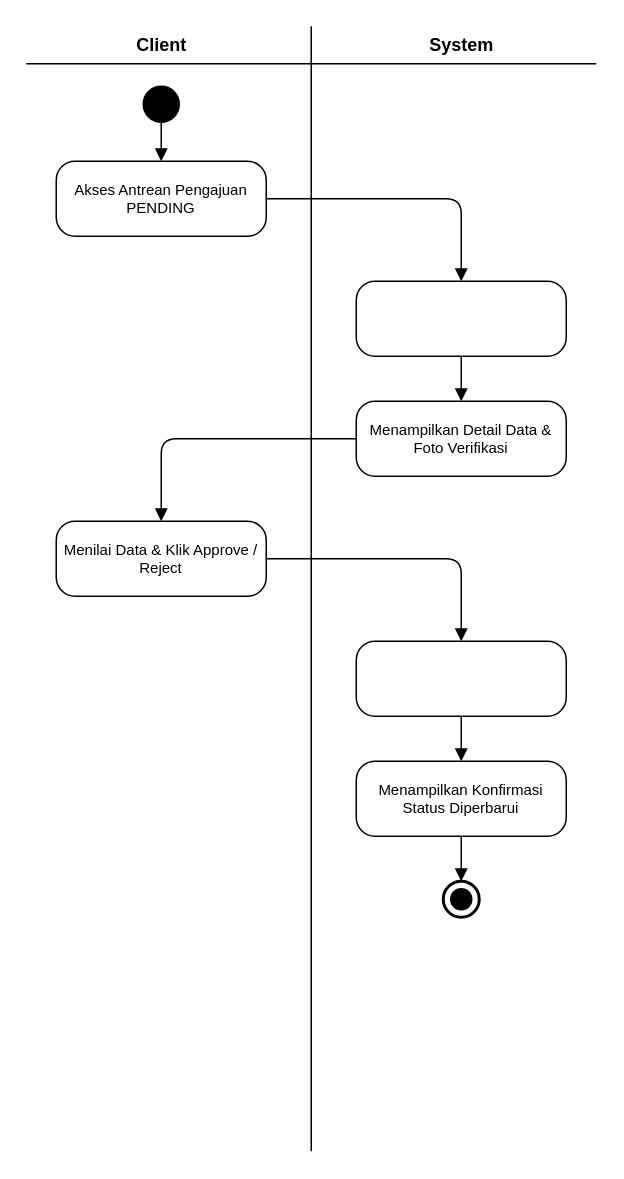
Image size: 624x1179. Some labels were removed from this diagram. Here are the shapes that lost their labels. From the top down, the box of each, then its label:
(355, 280, 566, 356): Mengambil Data Pengajuan dari Database
(355, 640, 566, 716): Mengubah Status & Kirim Email Notifikasi
